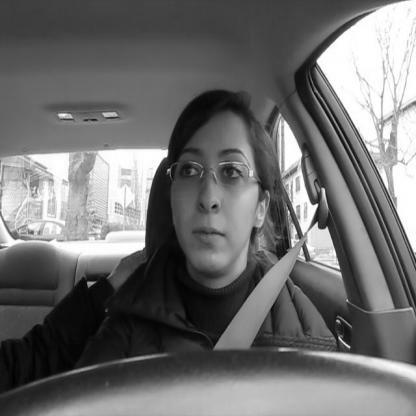seatbelt: (150, 70, 336, 348)
